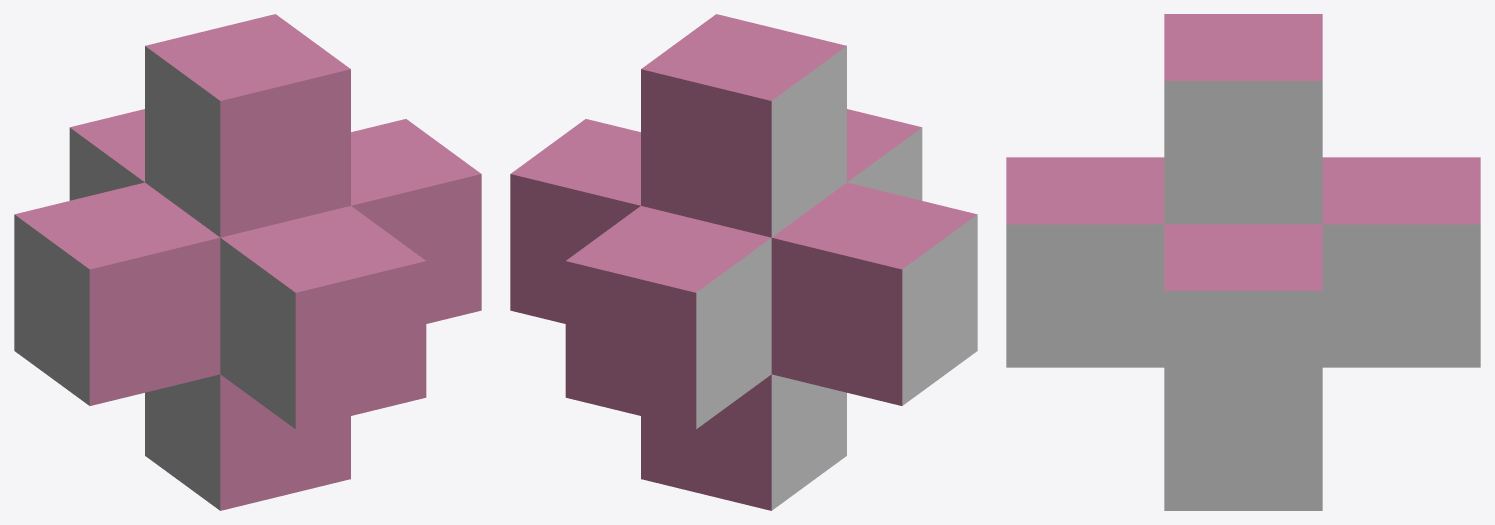
The model's file is triplanar.glb.
The picture shows the model from 3 angles, left to right: view 1: azimuth 30°, elevation 25°; view 2: azimuth 150°, elevation 25°; view 3: azimuth 270°, elevation 25°; orthographic projection. The views are drawn at different scales.
Parts seen in each view (by area): view 1: Cube.002, Cube.004, Cube.001; view 2: Cube.002, Cube.004, Cube.001; view 3: Cube.004, Cube.001.
Part boxes in pixels (x1,y1,x2,y2): Cube.002: [89, 69, 481, 510]; Cube.004: [14, 46, 295, 510]; Cube.001: [15, 14, 480, 292]; Cube.002: [510, 69, 902, 510]; Cube.004: [696, 46, 977, 510]; Cube.001: [511, 14, 976, 292]; Cube.004: [1006, 81, 1480, 510]; Cube.001: [1006, 14, 1480, 290].
Bounding box in the file's own units: 6 × 6 × 6.
